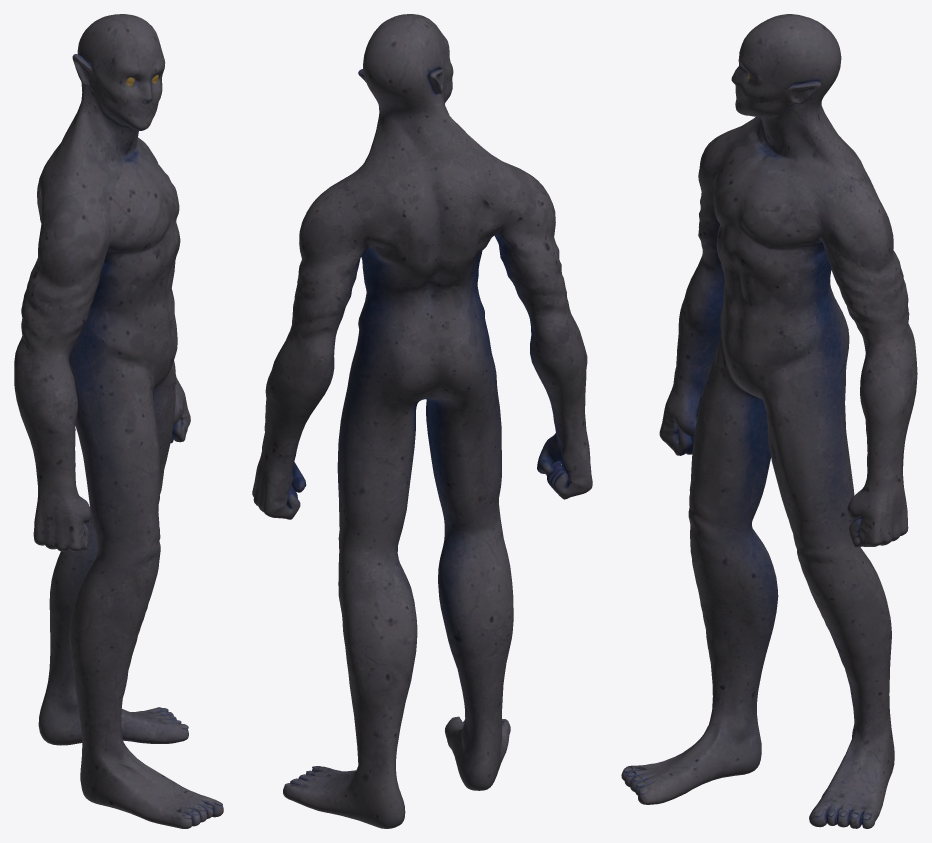
Rendered from MZ4250 - Doppleganger 2.glb.
3 views of the same model, side by side, from view 1: azimuth 30°, elevation 25°; view 2: azimuth 150°, elevation 25°; view 3: azimuth 270°, elevation 25° (orthographic). The views are drawn at different scales.
Visible parts, largest first — view 1: default; view 2: default; view 3: default.
Part boxes in pixels (box(x1,y1,x2,y2)): default: box(14, 14, 223, 828); default: box(252, 14, 592, 828); default: box(621, 14, 917, 828).
Bounding box in the file's own units: 0.6183 × 1.83 × 0.6325.
1 material, 1 textured.
